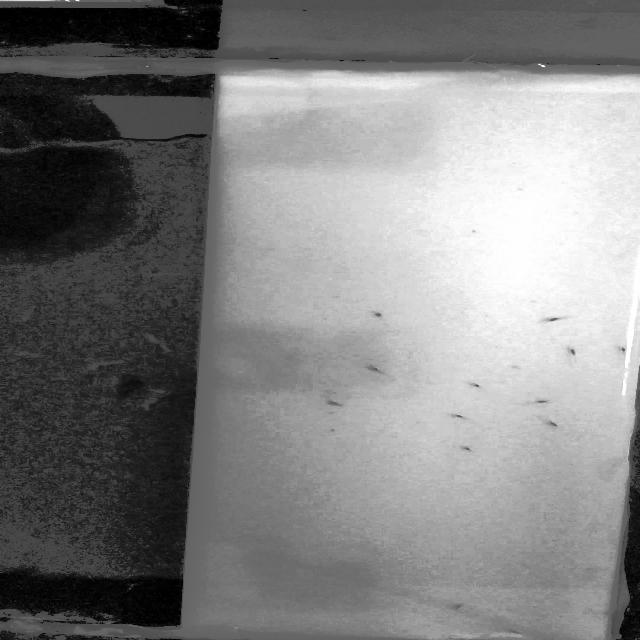shrimp: (446, 433, 485, 455), (536, 312, 580, 331), (438, 407, 479, 423), (538, 414, 572, 432), (560, 342, 586, 364), (464, 378, 493, 396), (360, 360, 387, 378), (524, 392, 554, 408), (363, 309, 393, 323), (320, 397, 348, 412), (446, 598, 470, 615)
